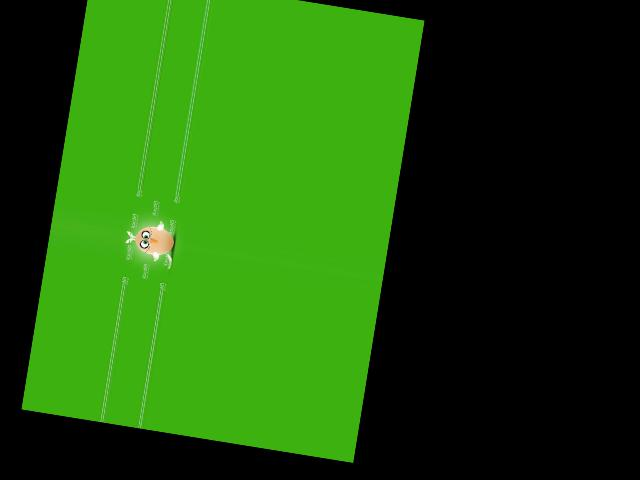egg: (133, 224, 176, 258)
